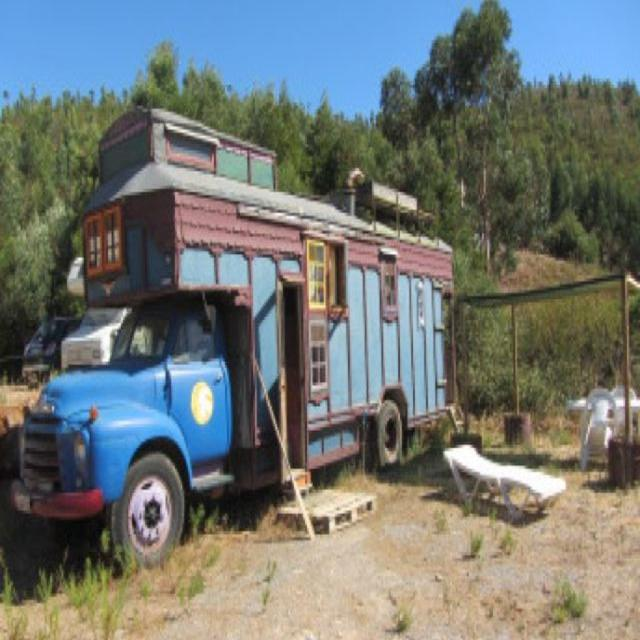Car: (22, 319, 64, 384)
